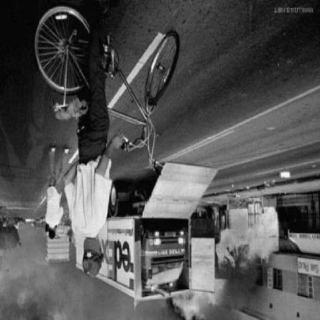Fire: (214, 204, 286, 272), (172, 279, 232, 320)
